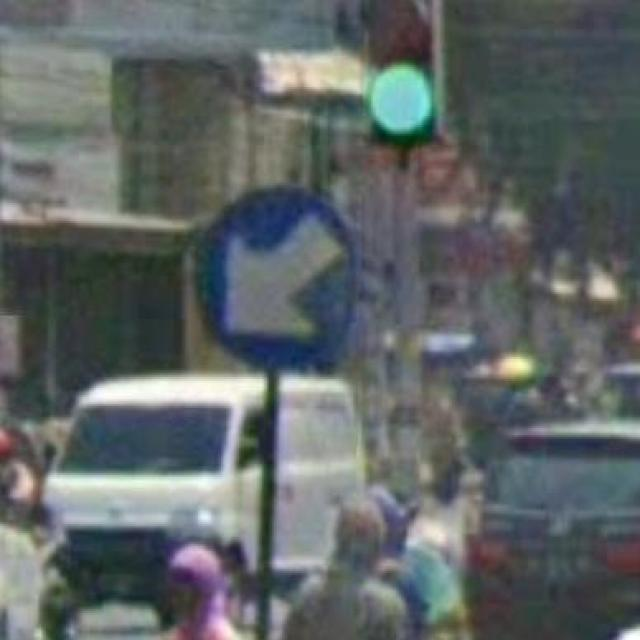traffic sign: (202, 190, 357, 372)
